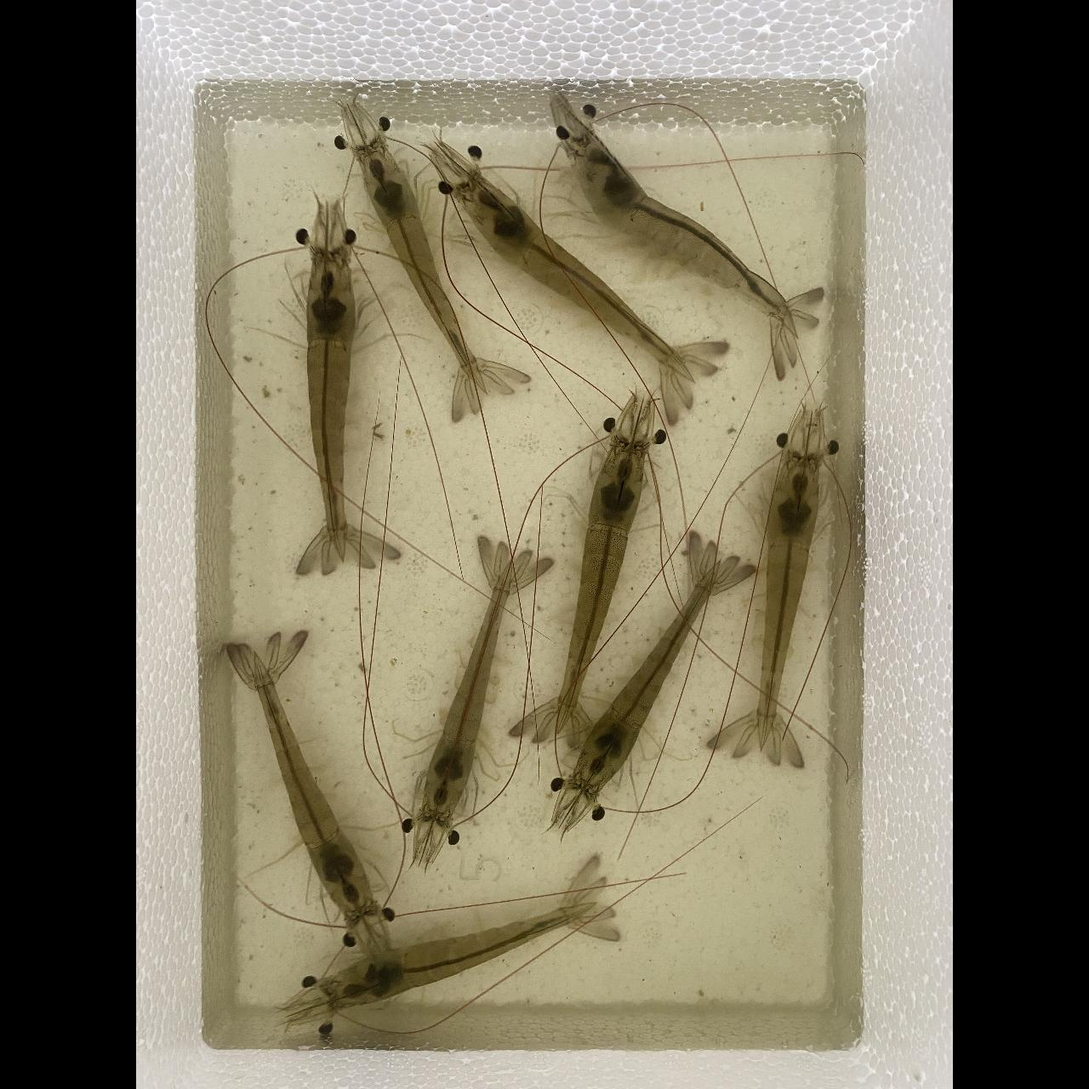top_shrimp: (463, 179, 691, 381), (580, 148, 793, 330), (573, 565, 720, 793), (255, 662, 373, 917), (361, 148, 482, 393), (559, 436, 647, 735), (328, 905, 590, 1004), (422, 562, 512, 818), (759, 459, 818, 744), (308, 255, 352, 558)
